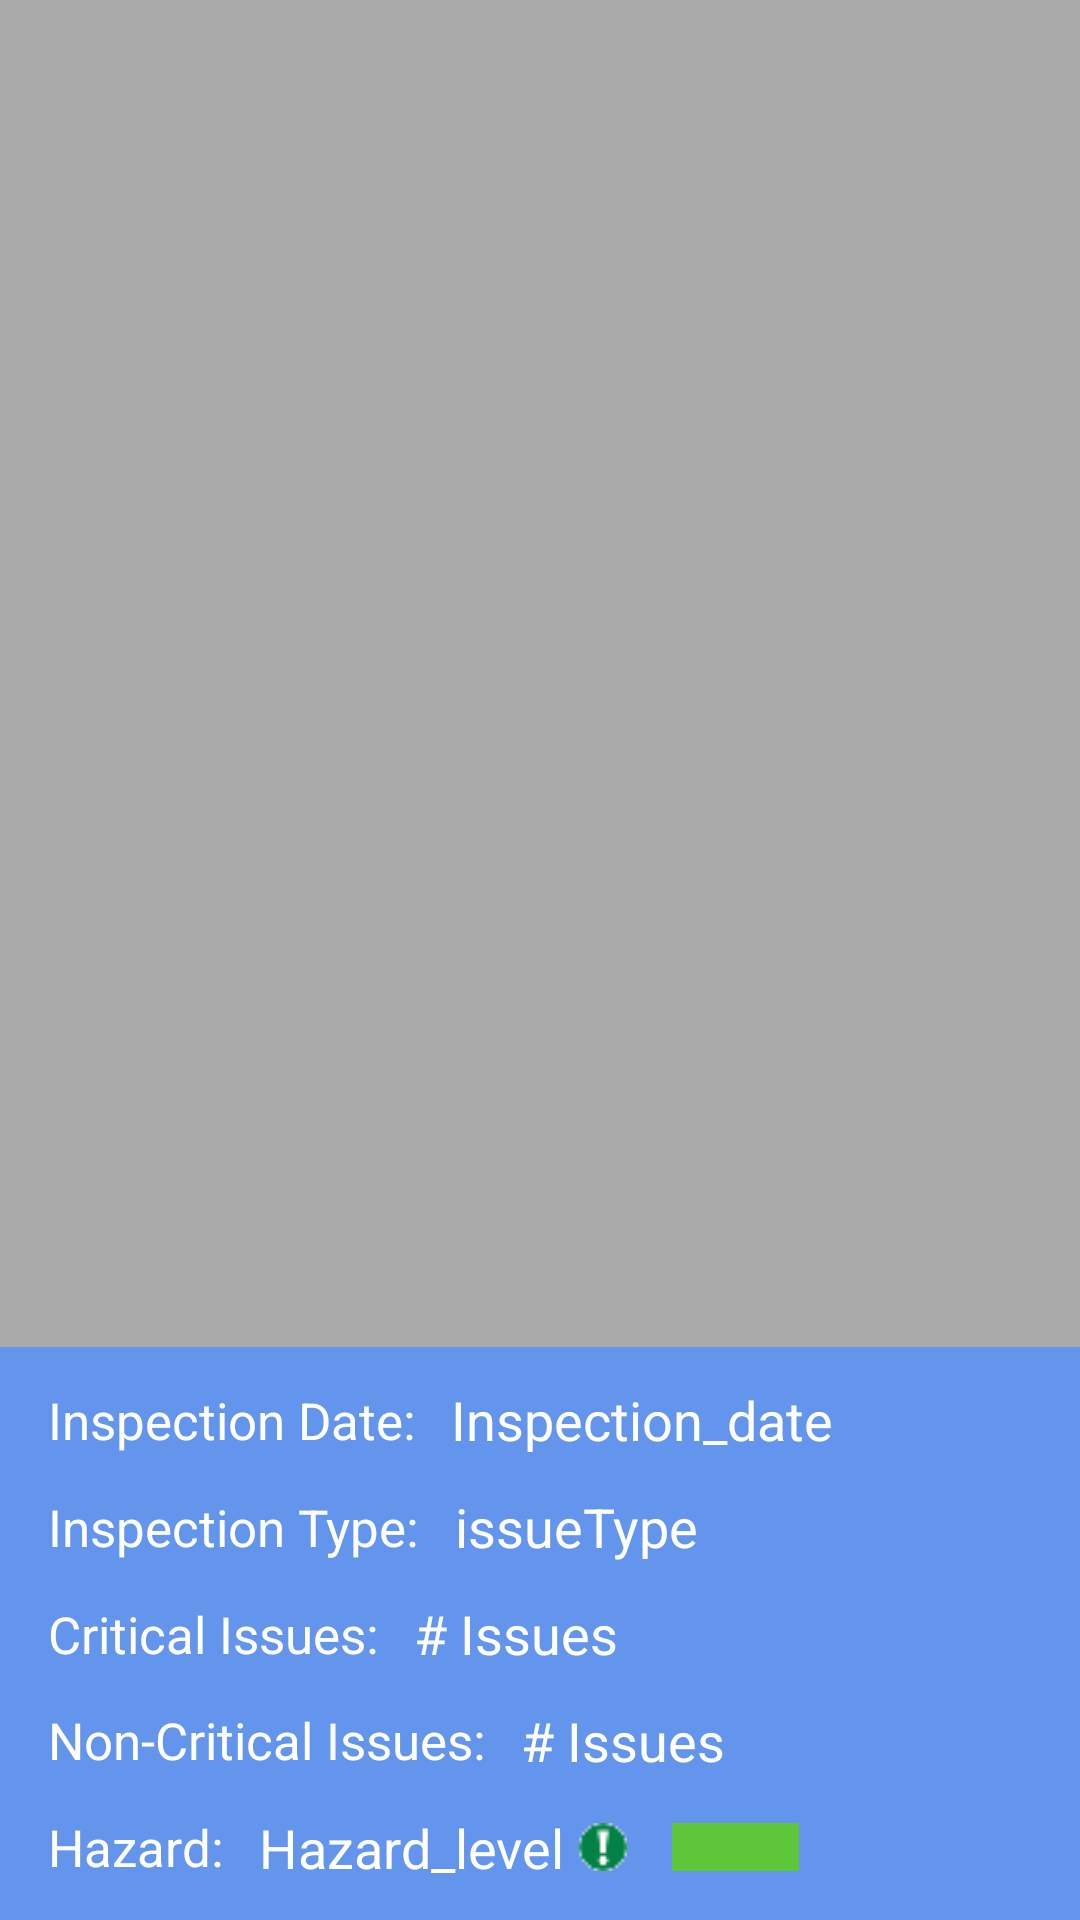

Point at icon controls on the screen. Image size 1080x1920, points as (x,y).
alert: (603,1847)
